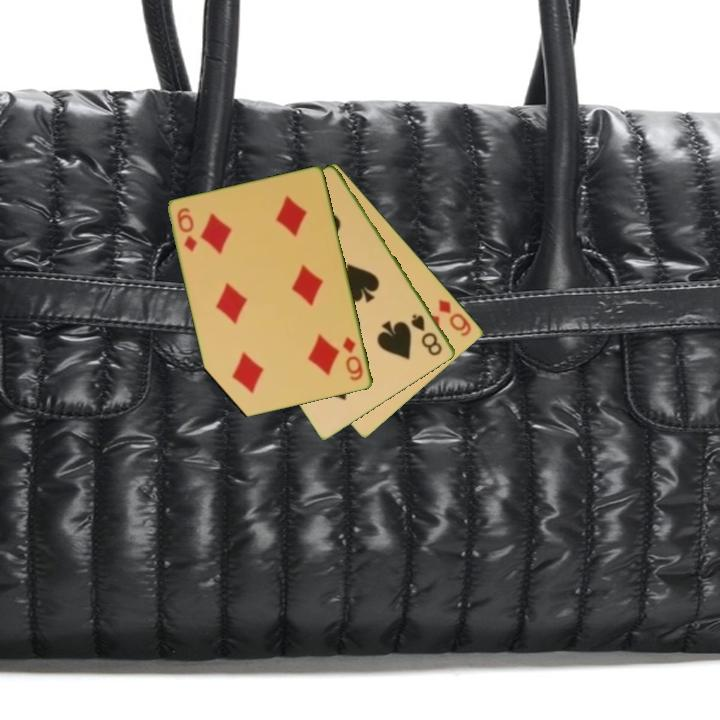6d: (435, 296, 475, 339), (339, 334, 366, 384), (174, 204, 200, 255)
8s: (407, 311, 445, 359)
